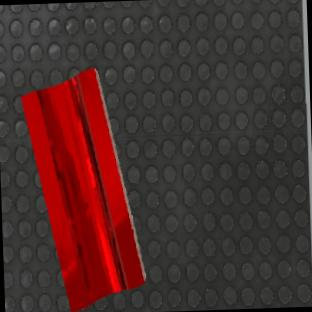objects: (13, 65, 154, 312)
